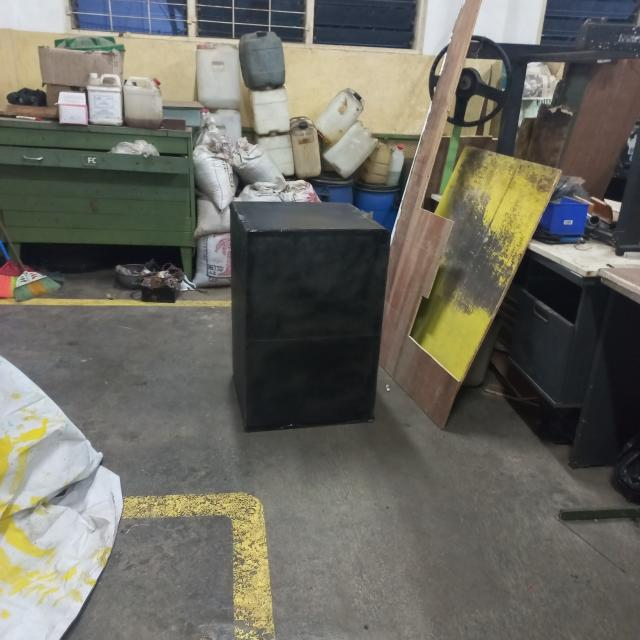obstacle: (229, 200, 389, 433)
